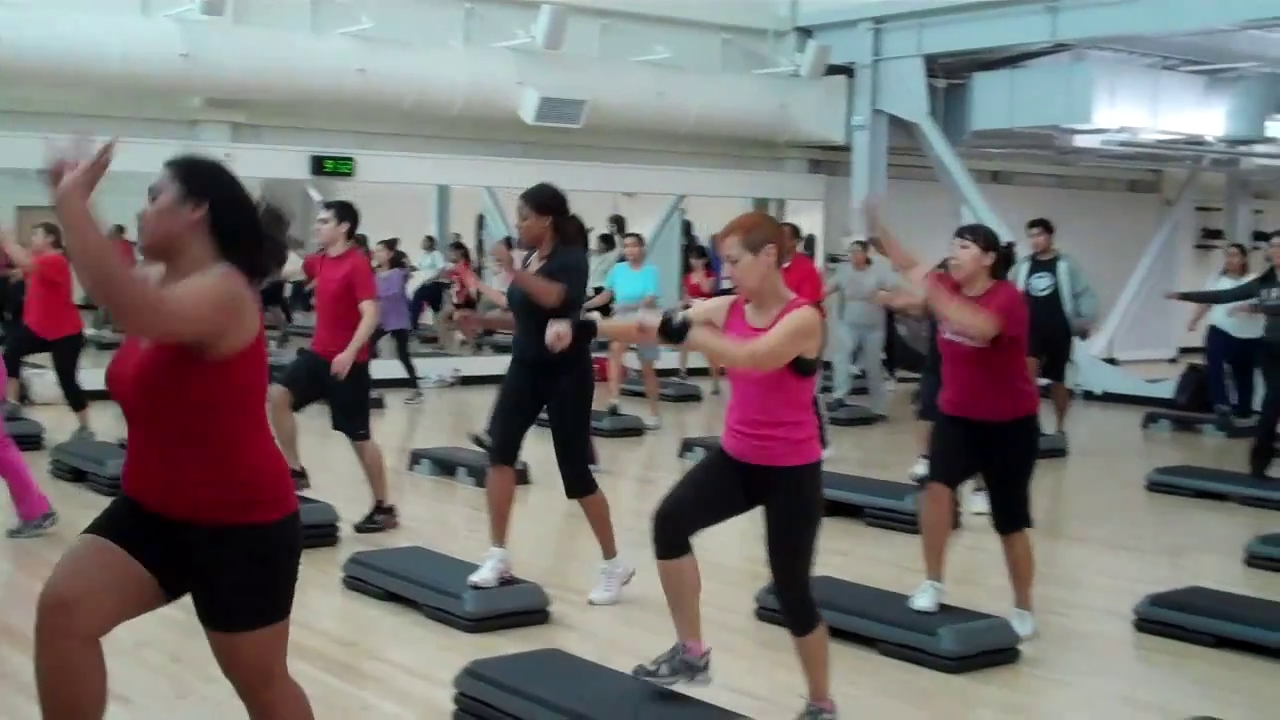person: (35, 137, 315, 720), (544, 212, 838, 720), (858, 195, 1036, 641), (467, 182, 638, 607), (270, 199, 398, 532)
